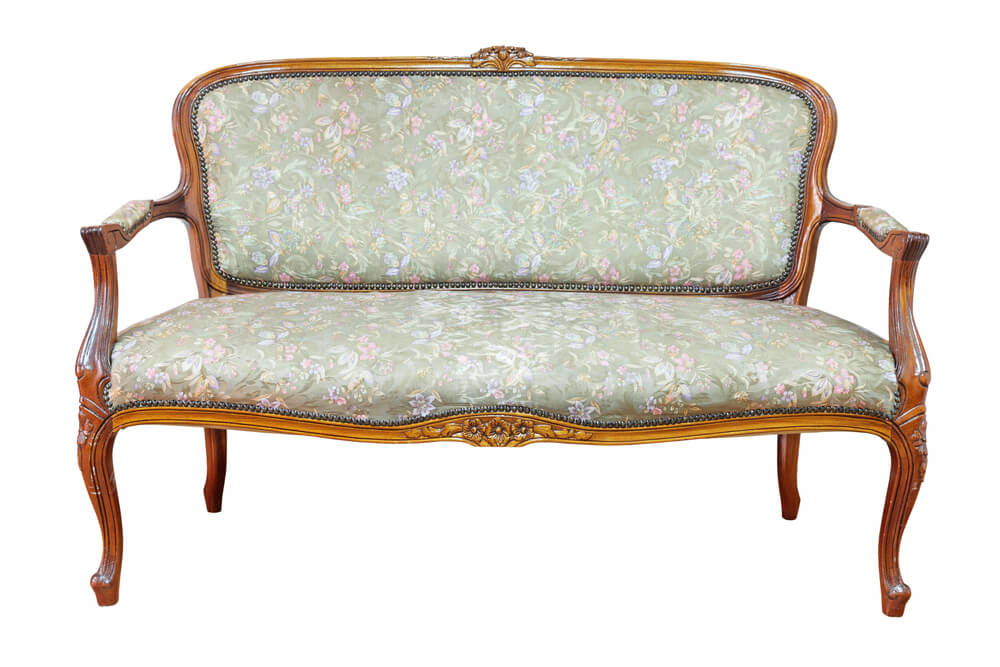chairs: (68, 46, 931, 621)
